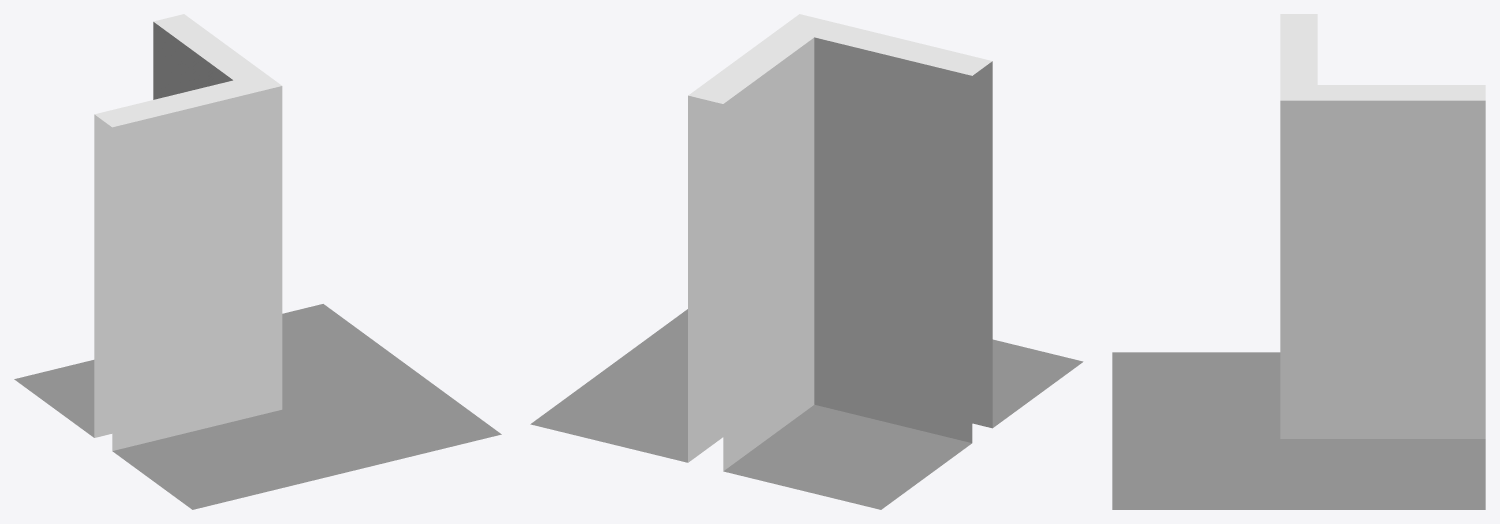
File: I_Wall_L_Shape.fbx
3 renders of one model, left to right at view 1: azimuth 30°, elevation 25°; view 2: azimuth 150°, elevation 25°; view 3: azimuth 270°, elevation 25°, orthographic. The views are drawn at different scales.
Parts seen in each view (by area): view 1: I_Wall_L_Shape; view 2: I_Wall_L_Shape; view 3: I_Wall_L_Shape.
Boxes of the visible parts, x1,y1,x2,y2 form: I_Wall_L_Shape: [14, 14, 501, 509]; I_Wall_L_Shape: [530, 14, 1083, 509]; I_Wall_L_Shape: [1112, 14, 1485, 509].
Bounding box in the file's own units: 200 × 200 × 200.
